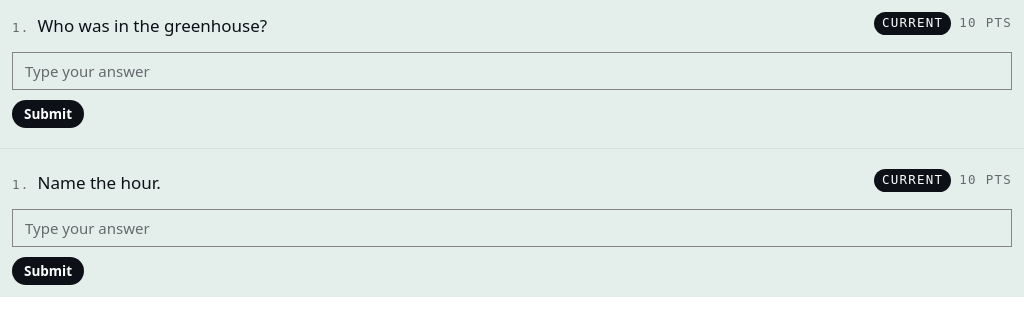
Scenario: the questions panel › two questions answer independently: one closing does not touch what the other is holding
In the field with placeholder "Type your answer" below "Name the hour.": (512, 228) 12,209 -> 1012,247, type "midnight"
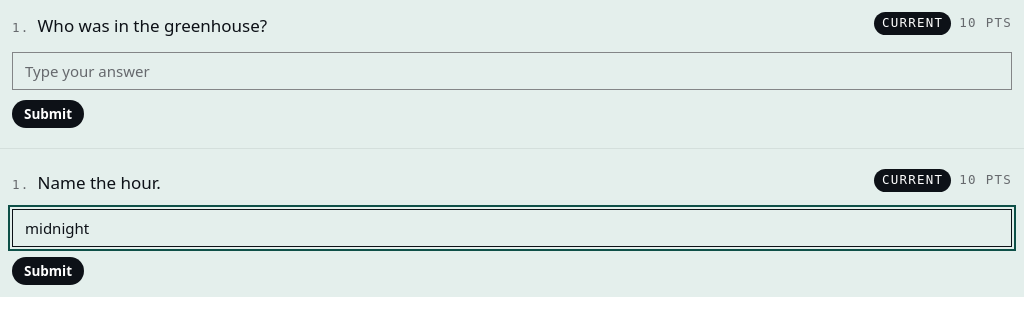
In the field with placeholder "Type your answer": (512, 71) 12,52 -> 1012,90, type "the gardener"
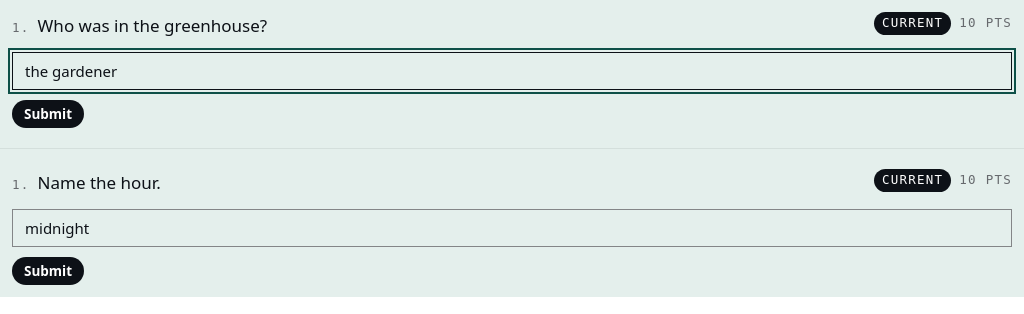
Click the button "Submit" below "Who was in the greenhouse?": (48, 114) 12,100 -> 84,128
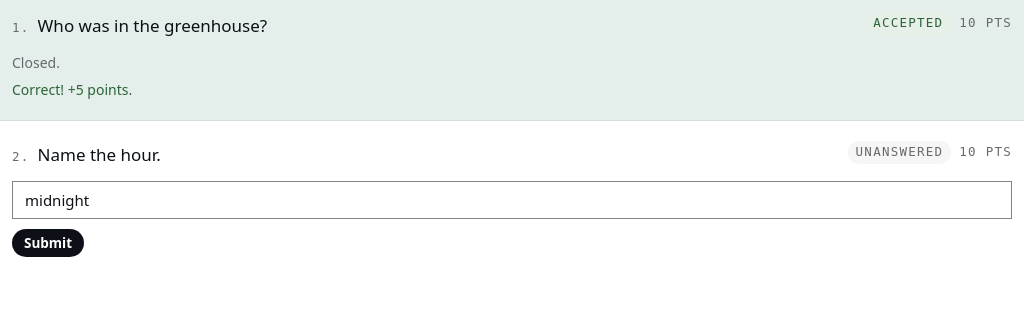
Expected: the text "Correct!" is shown, 12,80 -> 132,99
Expected: the number of fields is 1, 12,181 -> 1012,219
